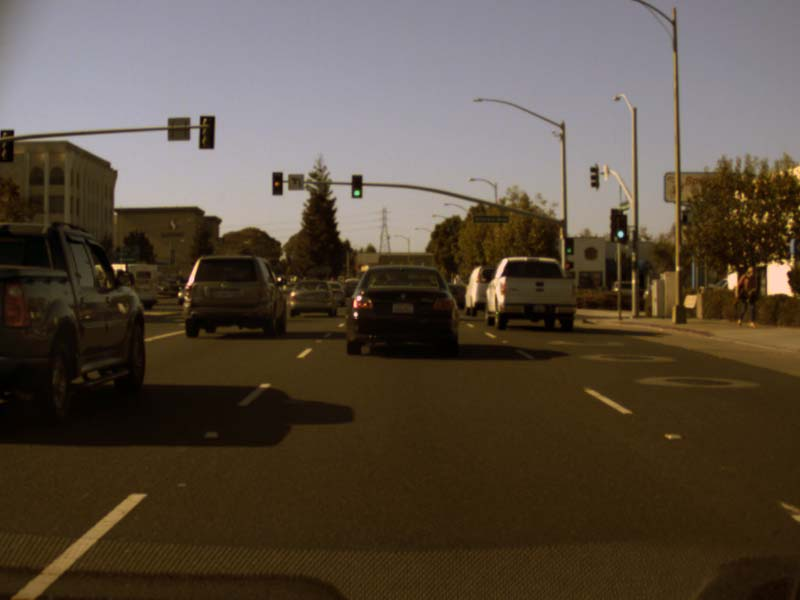Green: (615, 214, 626, 240), (351, 175, 362, 198), (565, 237, 572, 254)
Yellow: (272, 172, 281, 194)
